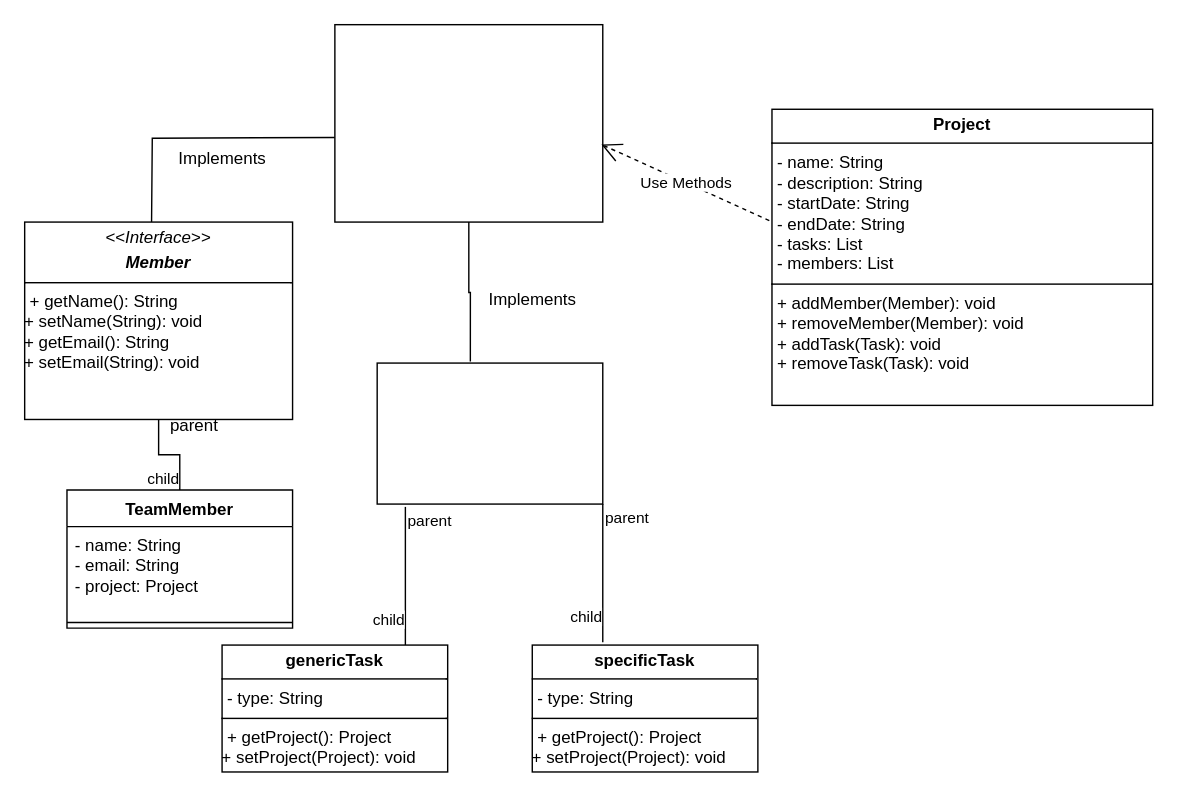
Image size: 1177x797. Some labels were removed from this diagram. Each missing label, with the centre of its shape:
<<Interface>> Assignable + getProject(): Project + setProject(Project): void: point (468, 122)
Task - title: String - description: String - dueDate: String - status: Boolean: point (489, 433)
